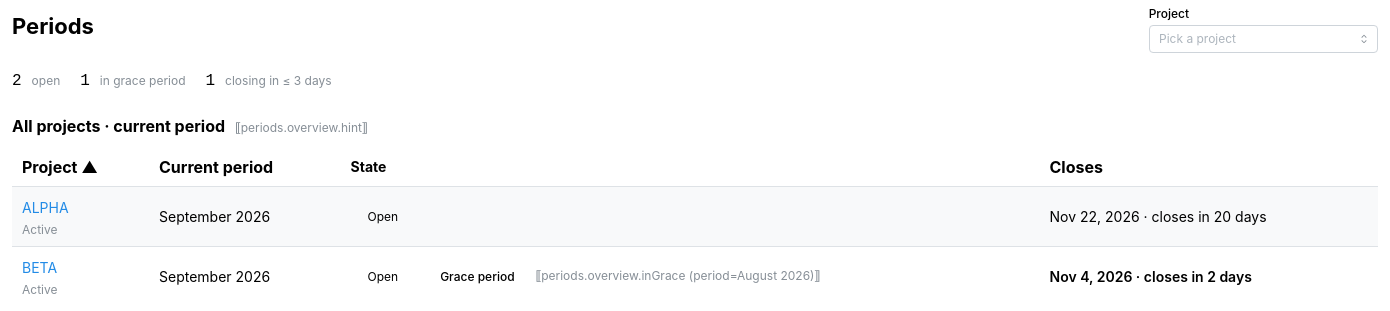
PeriodsPage: огляд усіх проєктів і плитки року (UI-33) › смуга показників фільтрує перелік: «in grace period» лишає лише BETA
Expected: the button "ALPHA" is shown, [22,194,69,222]
Click the button "1 in grace period" at (133, 81), box [80,69,186,94]
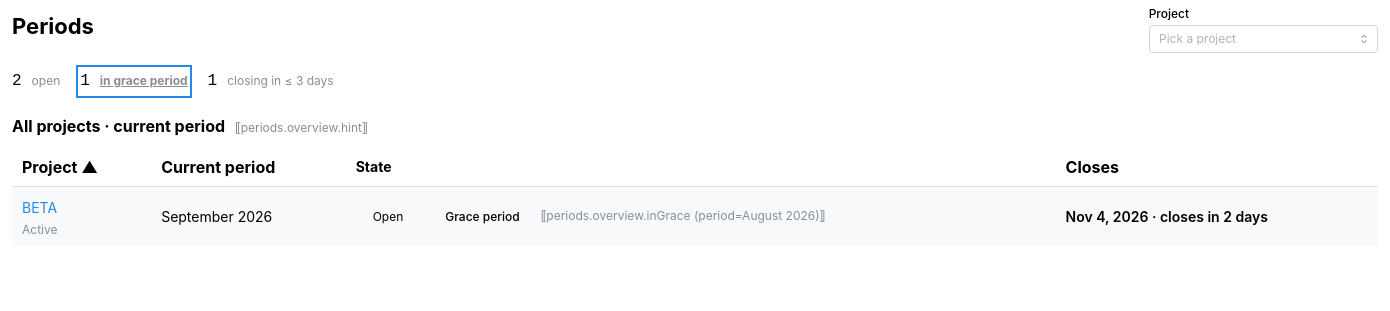
Expected: the button "BETA" is shown, [22,194,57,222]
Expected: the button "ALPHA" is gone
